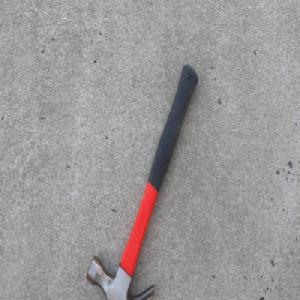Hammer: (86, 62, 200, 300)
